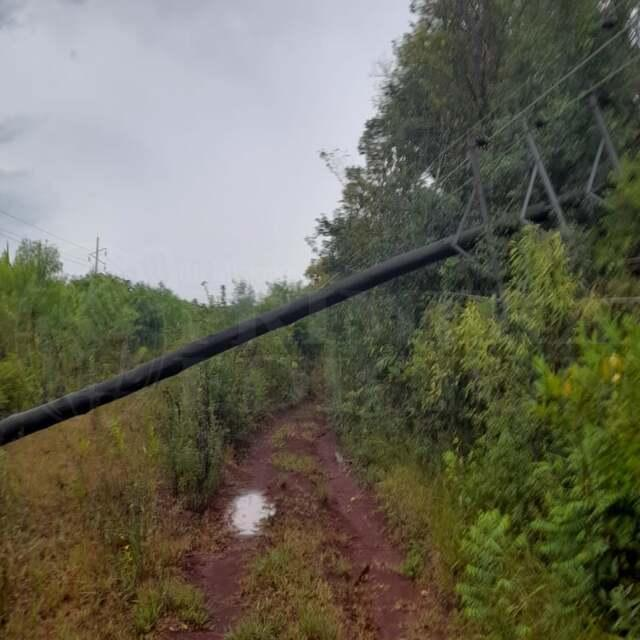Inclined Pole: (0, 88, 640, 451)
